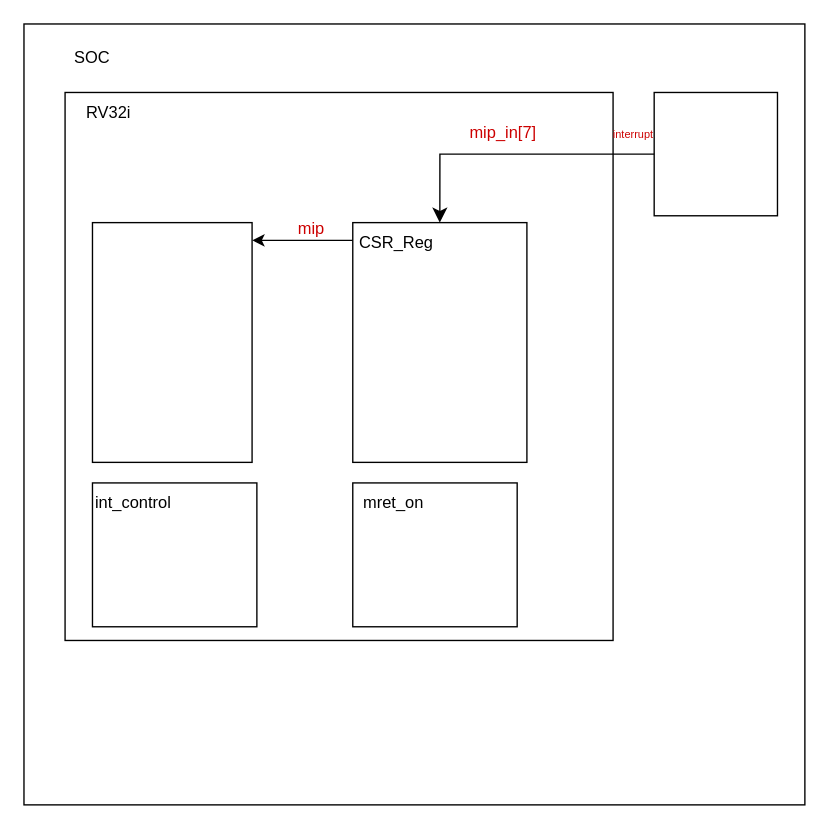
Image size: 829x829. Some labels were removed from this diagram. The shapes that lost their labels are listed below. From the top down, each one's box as (x1, y1, x2, y2) in pixels, then its label:
(653, 91, 777, 216): CLINT
(91, 221, 252, 462): CSR_Control
